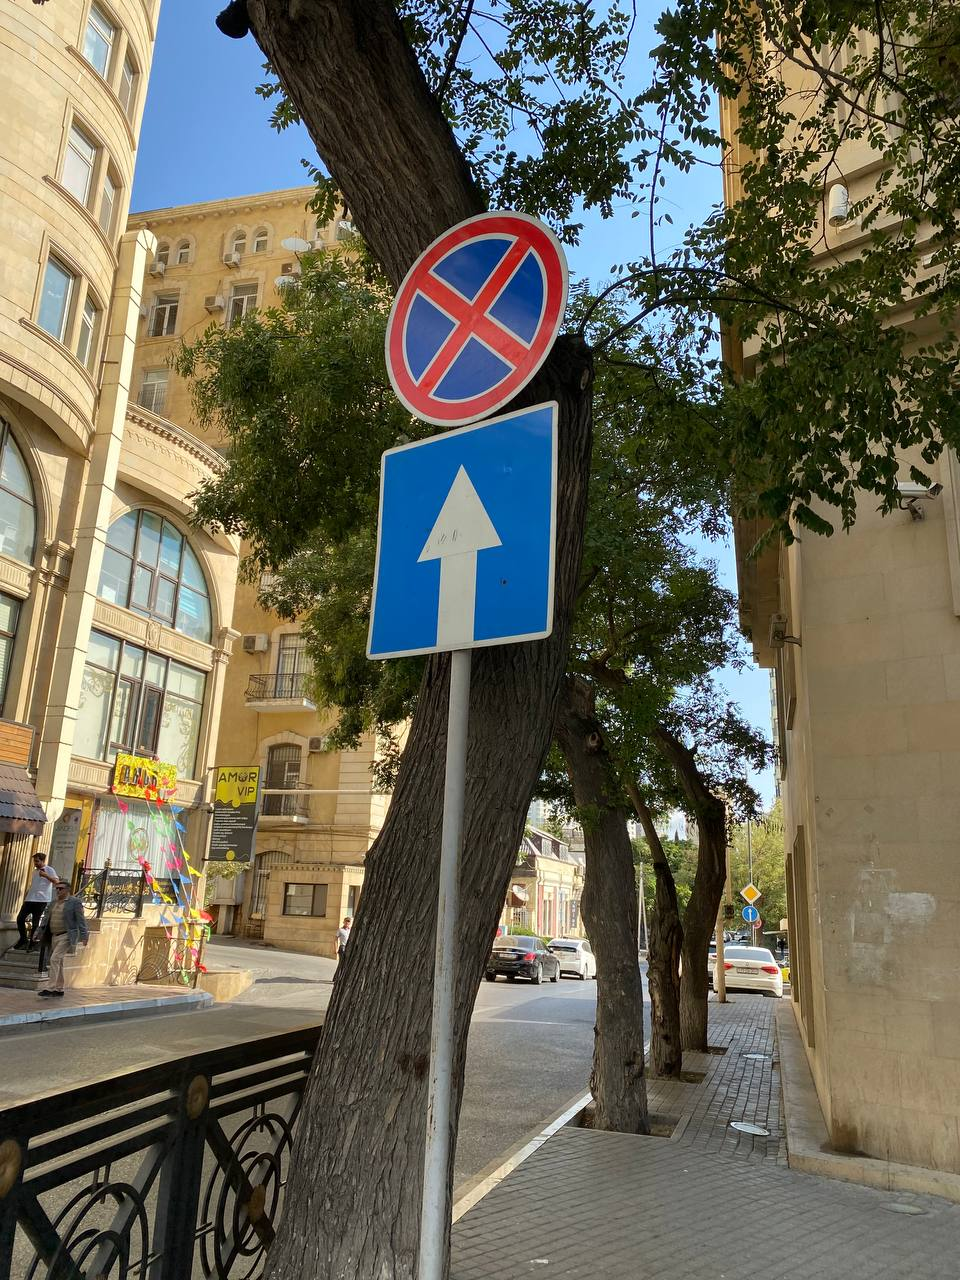No Parking: (384, 211, 569, 426)
